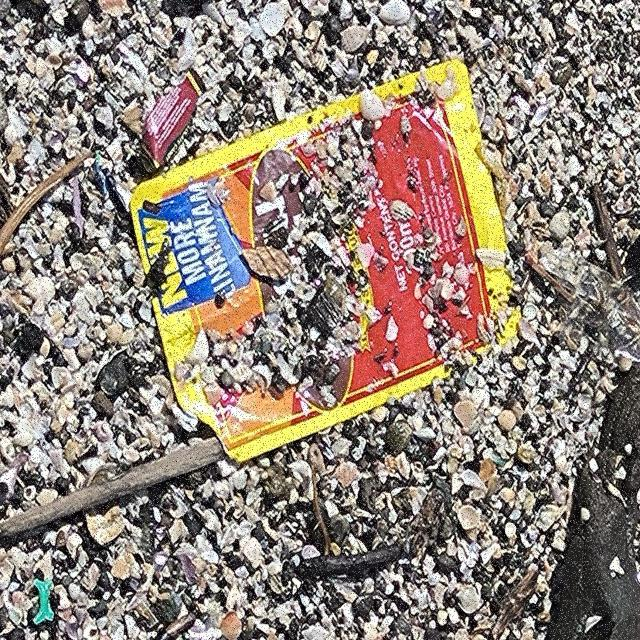plastic_waste: (130, 61, 523, 468)
